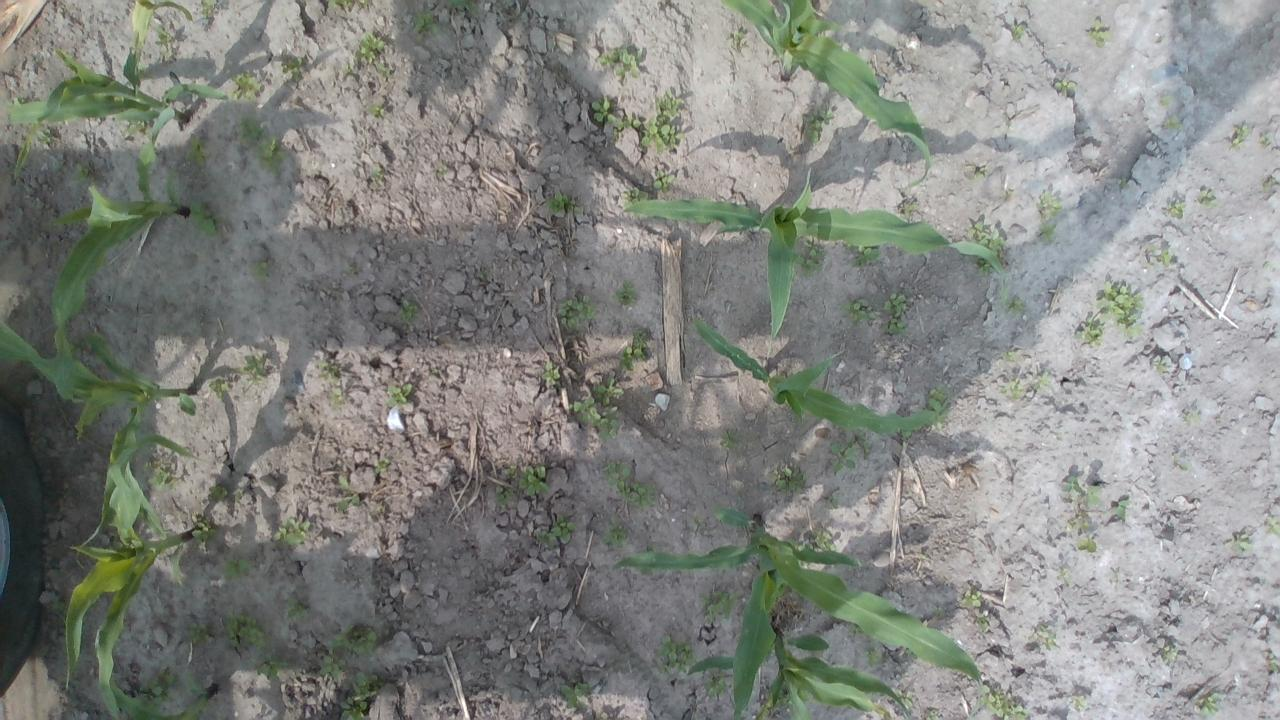Maize: (610, 501, 986, 720), (621, 168, 1010, 336), (0, 313, 196, 556), (48, 104, 190, 404), (62, 434, 202, 716), (717, 0, 932, 183), (5, 0, 226, 174), (690, 313, 946, 433), (685, 627, 914, 720), (103, 671, 217, 720)
Weeds: (1096, 278, 1144, 338), (641, 89, 684, 153), (603, 459, 657, 507), (338, 671, 384, 720), (567, 397, 618, 441), (981, 681, 1028, 720), (656, 634, 697, 676), (224, 609, 268, 648), (329, 624, 378, 657), (138, 666, 176, 708), (966, 219, 1006, 257), (598, 46, 644, 79), (537, 514, 578, 550), (188, 199, 224, 237), (557, 294, 596, 329), (801, 102, 833, 144), (273, 515, 312, 549), (253, 134, 286, 174), (792, 240, 826, 278), (701, 588, 738, 622), (619, 330, 649, 371), (882, 291, 908, 337), (841, 296, 879, 327), (254, 650, 290, 682), (924, 384, 949, 430), (142, 460, 178, 490), (795, 527, 836, 553), (228, 70, 262, 101), (772, 465, 808, 494), (1074, 317, 1106, 349), (518, 464, 550, 496), (352, 32, 386, 62), (560, 677, 590, 710), (829, 438, 858, 472), (411, 10, 441, 42), (336, 476, 361, 512), (594, 376, 624, 406), (544, 191, 582, 214), (590, 93, 618, 124), (240, 354, 269, 383), (602, 516, 628, 548), (1085, 17, 1111, 48), (237, 116, 265, 144), (1034, 624, 1062, 651), (192, 516, 218, 545), (222, 553, 252, 578), (851, 242, 881, 267), (184, 136, 209, 166), (1035, 191, 1063, 217), (282, 596, 310, 622), (613, 279, 639, 306), (319, 654, 345, 680), (1146, 244, 1174, 268), (155, 25, 173, 61), (704, 673, 728, 699), (396, 299, 419, 326), (386, 384, 412, 407), (206, 376, 233, 398), (620, 187, 649, 207), (855, 428, 872, 462), (186, 622, 210, 646), (1198, 692, 1222, 716), (316, 360, 341, 383), (1224, 531, 1250, 553), (70, 160, 96, 182), (650, 170, 674, 193), (1229, 124, 1250, 150), (444, 0, 480, 15), (281, 56, 303, 80), (1001, 378, 1025, 400), (540, 362, 560, 388), (718, 429, 741, 451), (1036, 222, 1058, 244), (66, 336, 90, 356), (1066, 511, 1089, 531), (727, 29, 748, 50), (326, 387, 346, 409), (960, 588, 981, 608), (1061, 475, 1083, 494), (1166, 200, 1186, 220), (494, 485, 514, 505), (614, 116, 642, 130), (1076, 536, 1099, 553), (1114, 498, 1131, 521), (1199, 188, 1218, 208), (1032, 370, 1052, 389), (250, 260, 271, 278), (977, 256, 996, 275), (50, 594, 68, 614), (864, 647, 882, 667), (896, 688, 914, 708), (127, 120, 149, 136), (207, 485, 230, 500), (974, 612, 991, 632), (824, 491, 840, 512), (847, 620, 867, 636), (1086, 484, 1102, 504), (1163, 644, 1179, 664), (1152, 354, 1169, 372), (200, 0, 217, 18), (1265, 515, 1280, 535), (1054, 78, 1077, 91), (373, 457, 390, 474), (37, 127, 54, 144), (1258, 130, 1274, 148), (1164, 114, 1182, 130), (1010, 22, 1026, 40), (899, 201, 915, 219), (1070, 692, 1086, 710), (692, 516, 709, 532), (1006, 298, 1025, 312), (969, 165, 986, 180), (366, 104, 386, 116), (1174, 454, 1188, 471), (381, 618, 394, 636), (1001, 350, 1019, 362), (370, 166, 385, 180), (324, 0, 352, 7), (376, 64, 390, 78), (1268, 652, 1278, 671), (341, 63, 354, 77), (1264, 177, 1276, 191), (1186, 410, 1200, 422), (437, 164, 449, 178), (924, 709, 939, 720), (1057, 566, 1070, 578), (638, 566, 655, 574), (1160, 94, 1172, 105), (346, 264, 357, 276), (1118, 178, 1129, 189), (644, 542, 656, 552), (504, 464, 516, 474), (899, 430, 912, 439), (476, 269, 489, 278), (611, 126, 619, 140), (55, 160, 64, 171), (933, 606, 944, 615), (846, 243, 854, 251)
